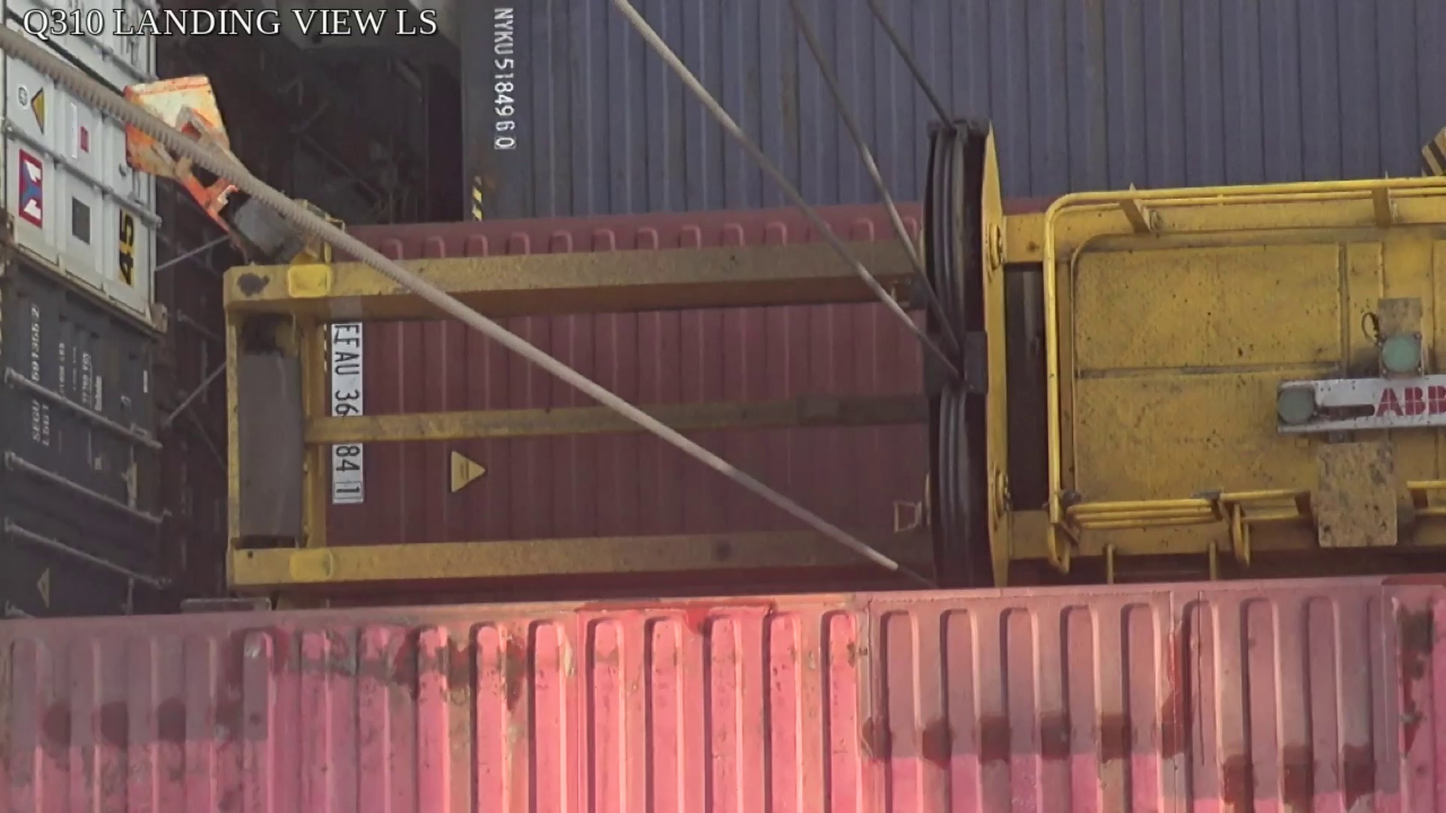aa: (923, 122, 1012, 586)
